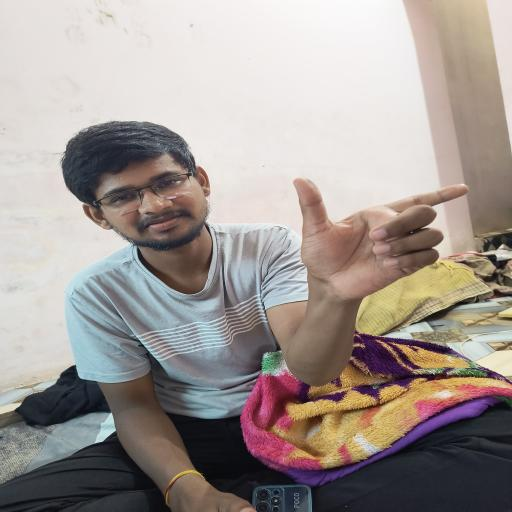Sorry: (276, 166, 486, 312)
